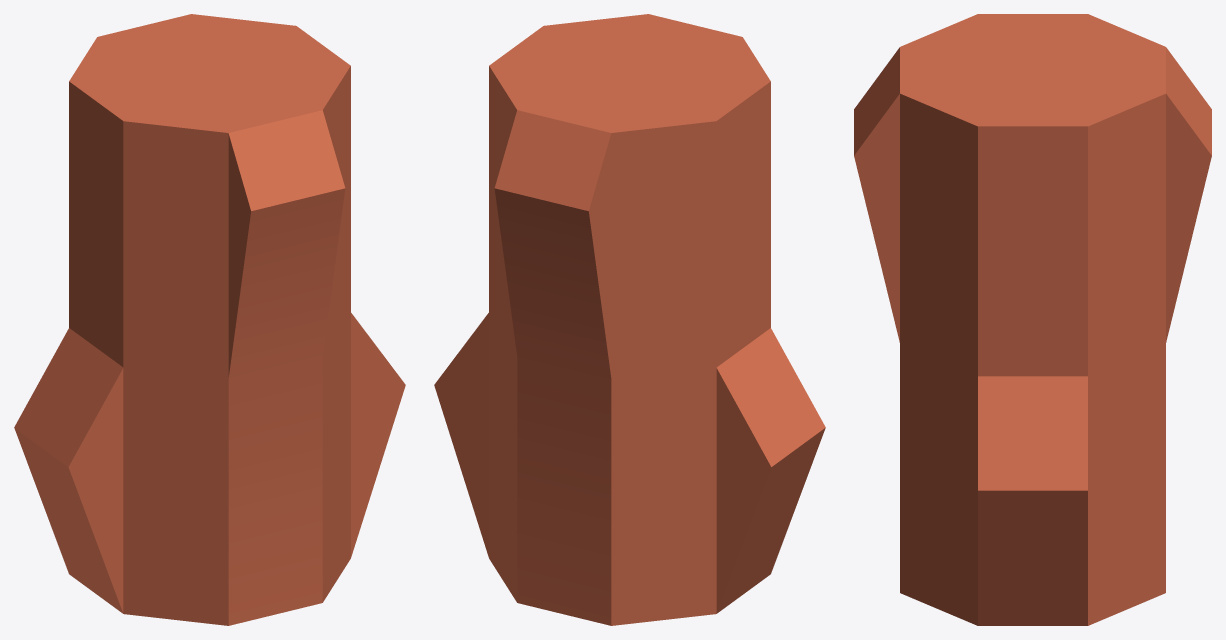
Rendered from log.fbx.
3 renders of one model, left to right at view 1: azimuth 30°, elevation 25°; view 2: azimuth 150°, elevation 25°; view 3: azimuth 270°, elevation 25°, orthographic.
Parts seen in each view (by area): view 1: trunk_detailedB; view 2: trunk_detailedB; view 3: trunk_detailedB.
Boxes of the visible parts, x1,y1,x2,y2 form: trunk_detailedB: (14, 14, 405, 625); trunk_detailedB: (434, 14, 825, 625); trunk_detailedB: (854, 14, 1211, 625).
Bounding box in the file's own units: 5.37 × 7.5 × 4.87.
